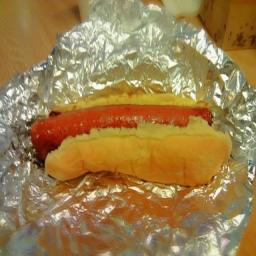hotdog: (30, 109, 214, 133), (29, 135, 67, 157)
